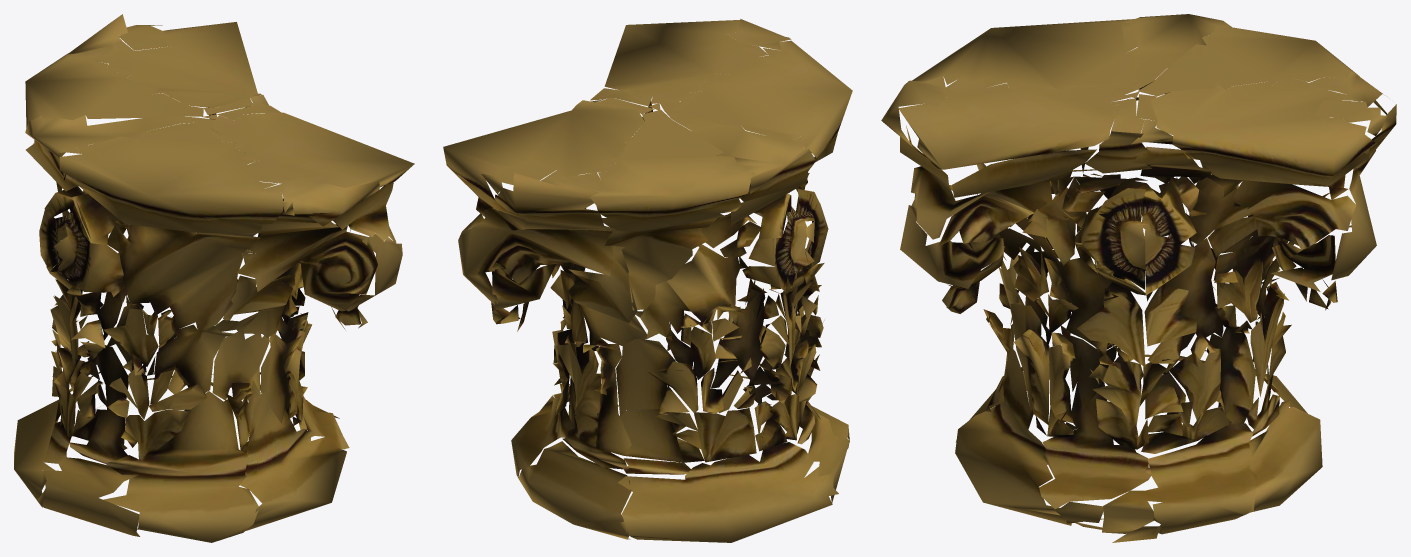
Rendered from hf_capital_lo.glb.
The picture shows the model from 3 angles, left to right: view 1: azimuth 30°, elevation 25°; view 2: azimuth 150°, elevation 25°; view 3: azimuth 270°, elevation 25°; orthographic projection. The views are drawn at different scales.
Parts seen in each view (by area): view 1: tripo_node_beeb635d-606d-48f8-8293-cdb9b316902c; view 2: tripo_node_beeb635d-606d-48f8-8293-cdb9b316902c; view 3: tripo_node_beeb635d-606d-48f8-8293-cdb9b316902c.
Boxes of the visible parts, x1,y1,x2,y2 form: tripo_node_beeb635d-606d-48f8-8293-cdb9b316902c: (14, 14, 414, 542); tripo_node_beeb635d-606d-48f8-8293-cdb9b316902c: (443, 19, 852, 542); tripo_node_beeb635d-606d-48f8-8293-cdb9b316902c: (881, 14, 1396, 542).
Size of the model in its own units: 0.7059 by 0.851 by 0.9833.
1 material, 1 textured.
